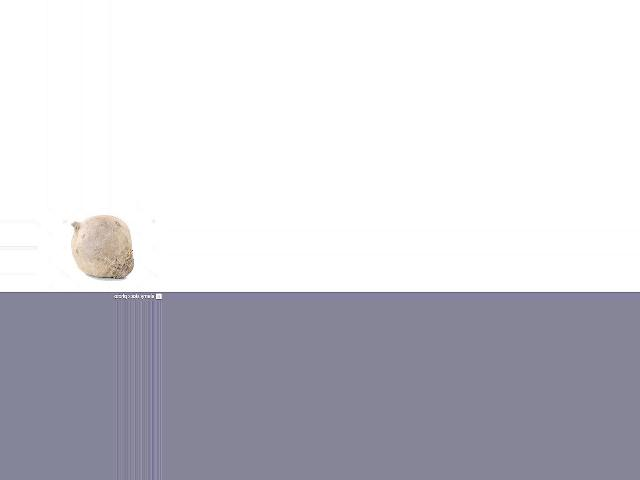beet: (70, 215, 133, 279)
